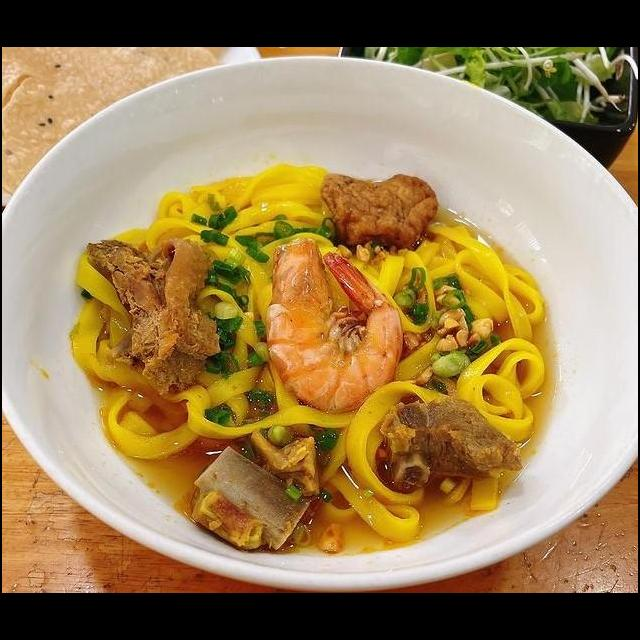mi: (97, 360, 430, 543), (337, 218, 552, 448), (182, 231, 297, 430), (109, 161, 334, 257), (64, 248, 163, 414)
thit heo: (81, 236, 224, 398), (181, 433, 324, 558), (376, 396, 527, 494), (315, 171, 441, 257)
tom: (262, 234, 405, 418)
